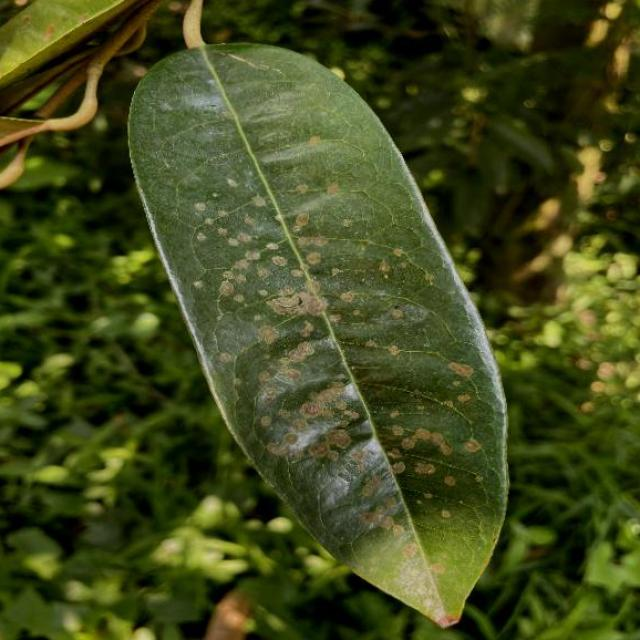Algal Leaf Spot: (115, 22, 531, 638)
